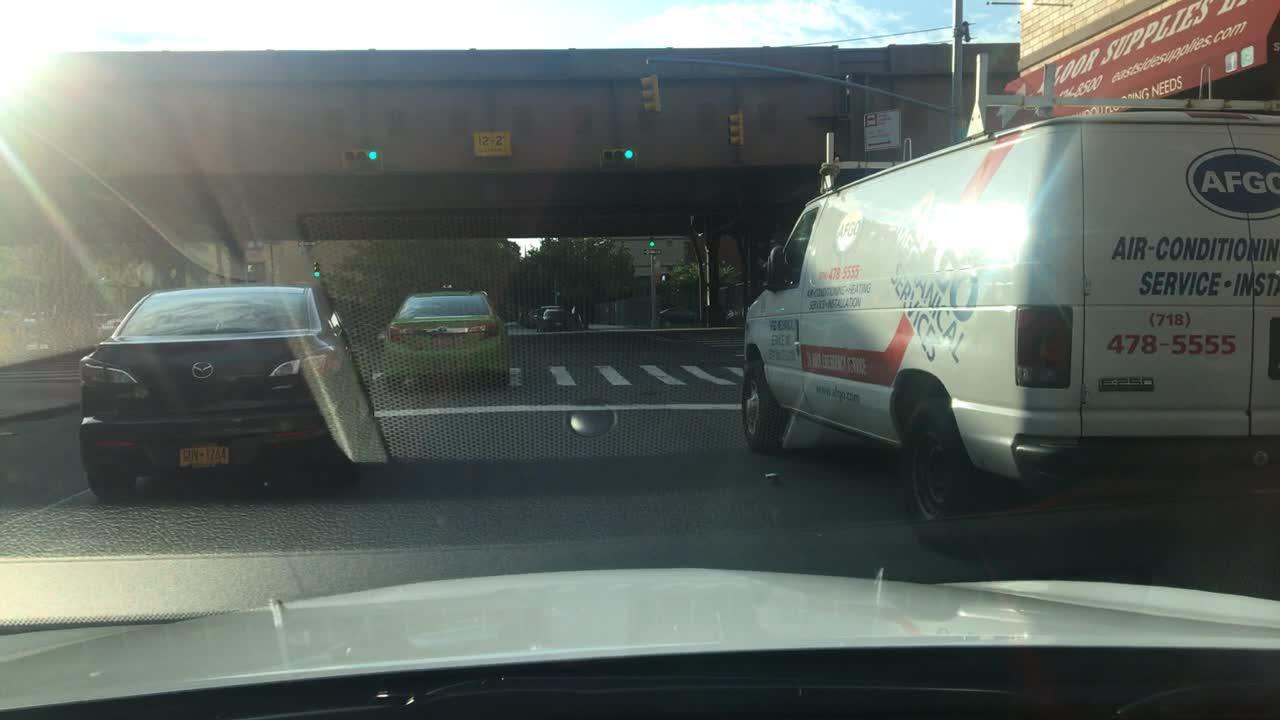Mazda: (189, 360, 218, 382)
Toyota: (436, 323, 451, 335)
